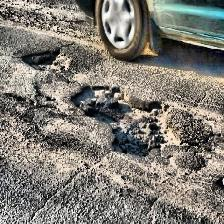pothole: (70, 83, 180, 156), (21, 48, 71, 72)
